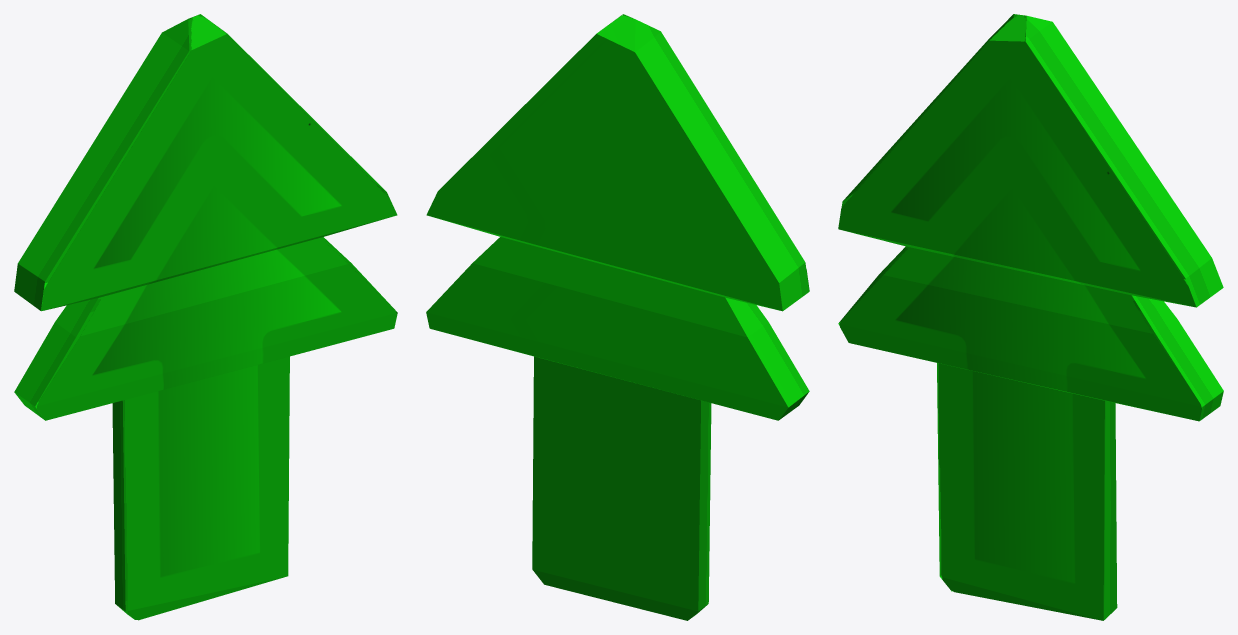
File: Boost.fbx
3 renders of one model, left to right at view 1: azimuth 30°, elevation 25°; view 2: azimuth 150°, elevation 25°; view 3: azimuth 330°, elevation 25°, orthographic.
Visible parts, largest first — view 1: Cube; view 2: Cube; view 3: Cube.
Boxes of the visible parts, x1,y1,x2,y2 form: Cube: (14, 14, 397, 620); Cube: (426, 14, 809, 620); Cube: (838, 14, 1223, 620).
Size of the model in its own units: 324 by 500 by 41.73.
